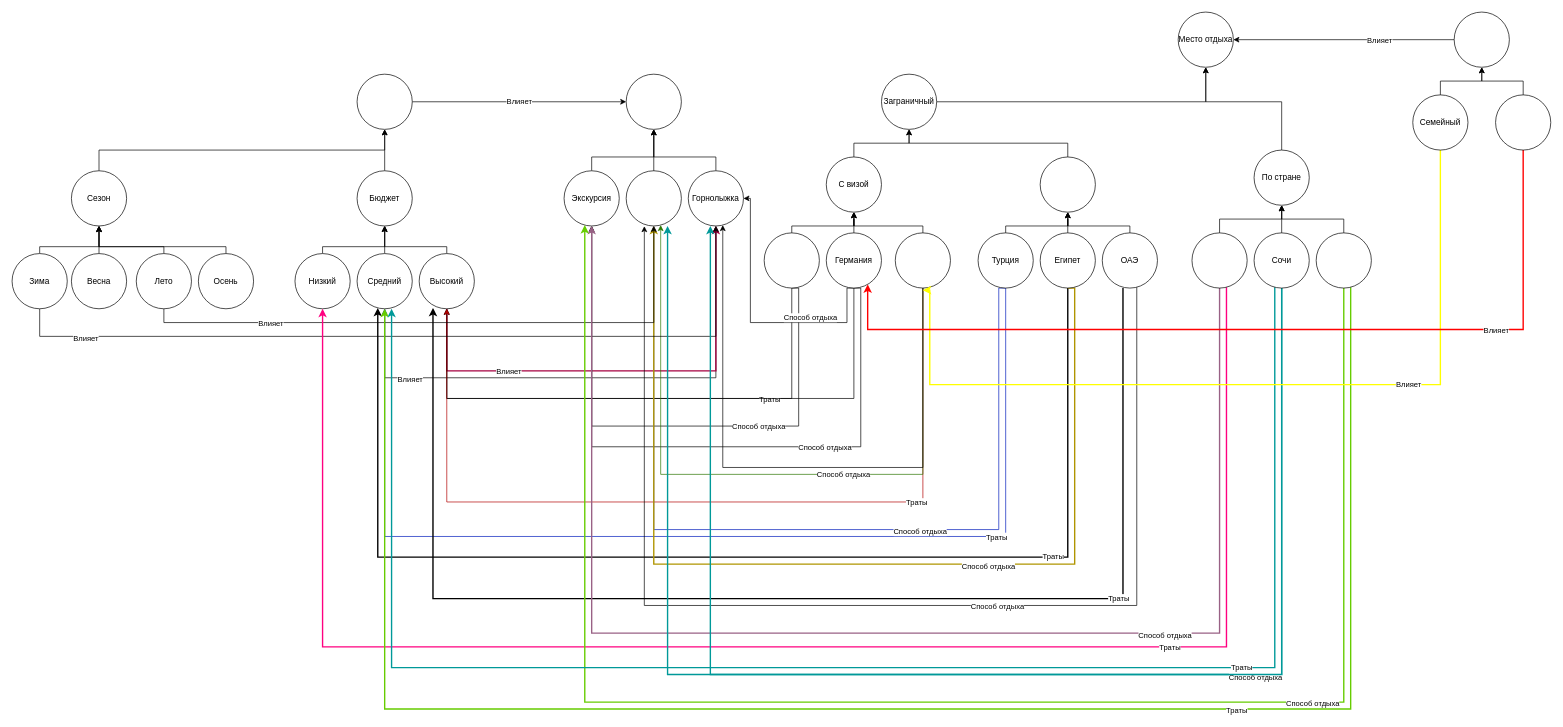
Image size: 1563x727. Some labels were removed from this diagram. The shapes that lost their labels are listed below. From the top down, each one's centre as x and y in pixels, then its label:
At point (1481, 39): "Тип поездки".
At point (384, 101): "Факторы".
At point (653, 101): "Отдых".
At point (1523, 122): "Не семейный".
At point (653, 198): "Пляж".
At point (1067, 184): "Без визы".
At point (791, 260): "Китай".
At point (922, 260): "Испания".
At point (1219, 260): "Пермь".
At point (1343, 260): "Санкт-Петербург".
